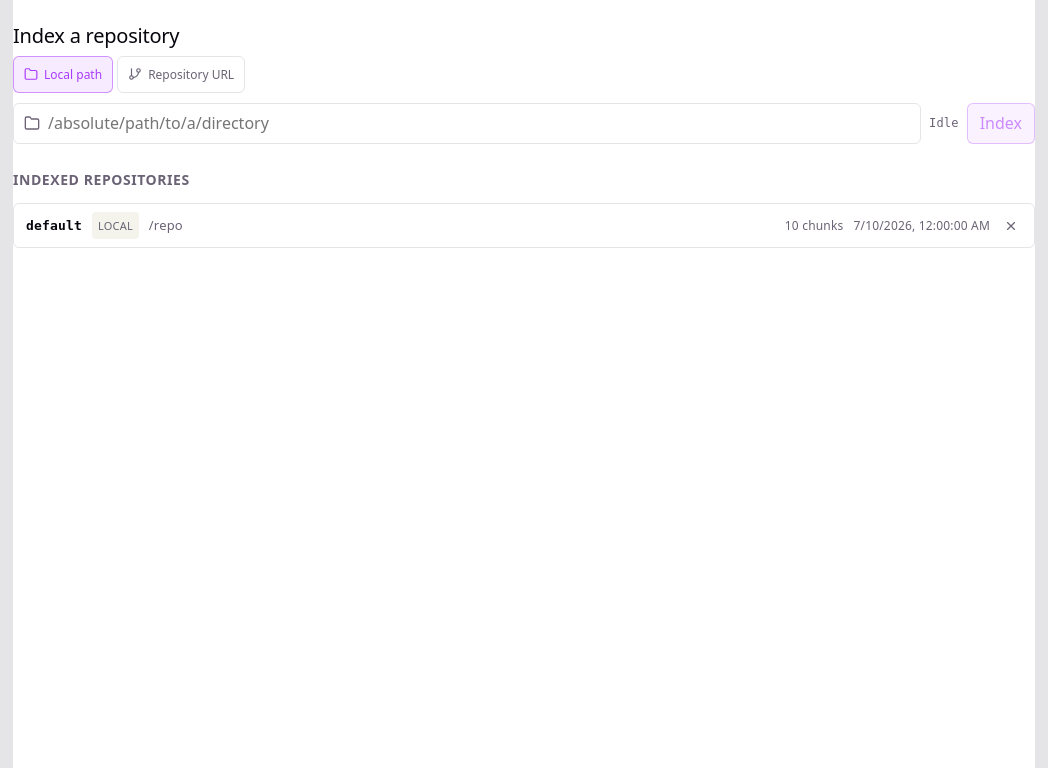
IndexPanel › shows an error when deleting a repository fails
The width and height of the screenshot is (1048, 768).
Click the button named "Delete default" at x=1011, y=226, box [1000,215,1022,237]
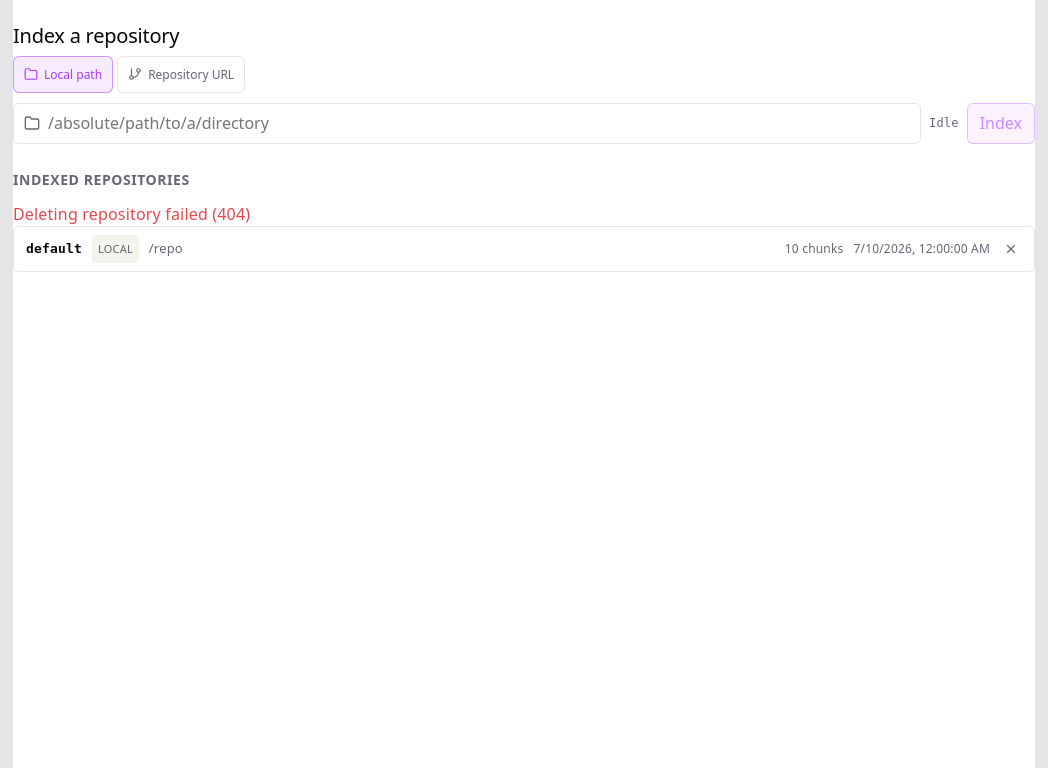
Result: the message "Deleting repository failed (404)" is shown at [13,203,250,225]
